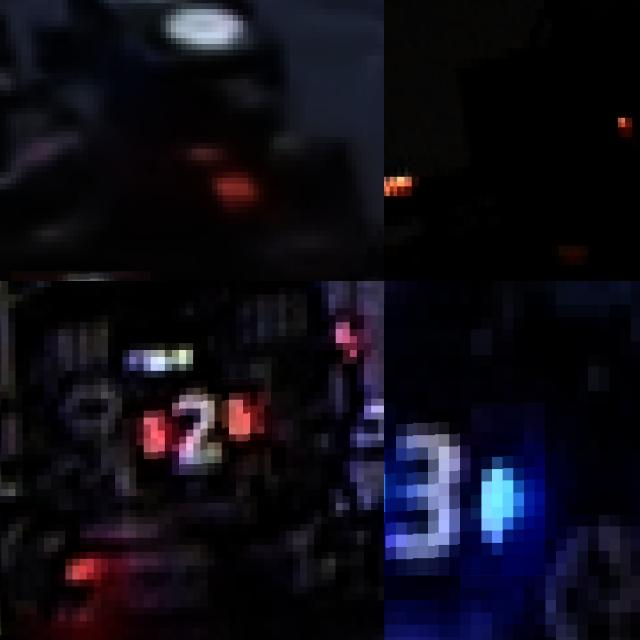B3: (384, 403, 545, 575)
R2: (101, 378, 271, 475)
